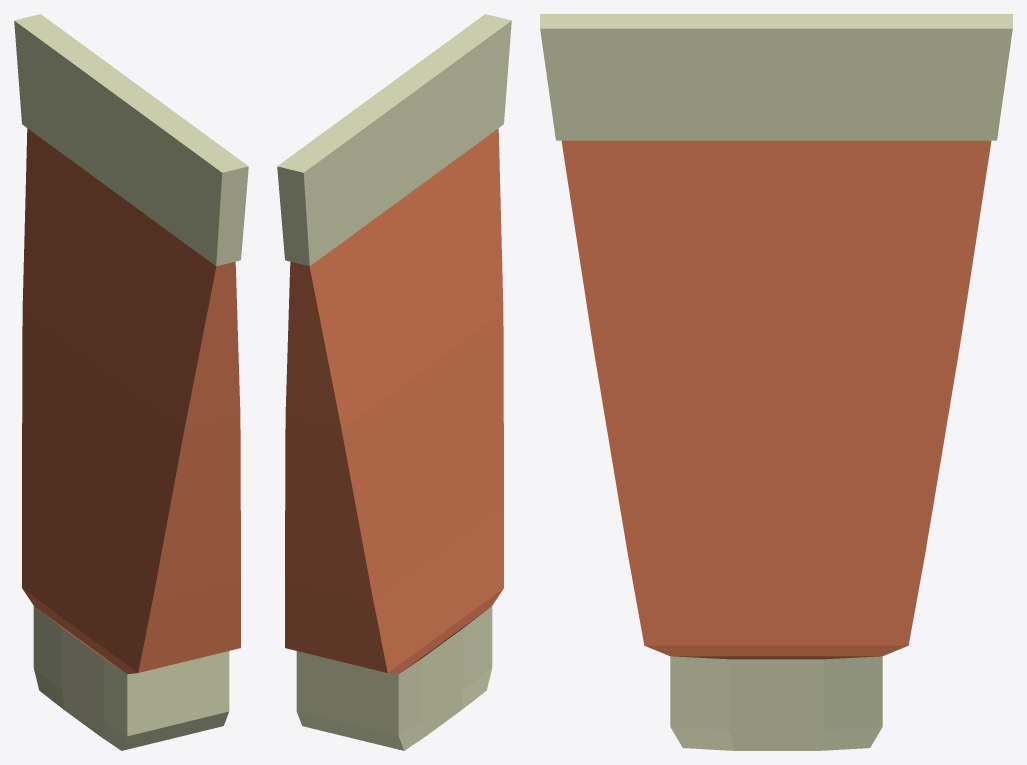
Rendered from sunscreen.fbx.
3 views of the same model, side by side, from view 1: azimuth 30°, elevation 25°; view 2: azimuth 150°, elevation 25°; view 3: azimuth 270°, elevation 25° (orthographic). The views are drawn at different scales.
Parts seen in each view (by area): view 1: Sunscreen; view 2: Sunscreen; view 3: Sunscreen.
Part boxes in pixels (<box>): Sunscreen: <box>14,14,248,750</box>; Sunscreen: <box>277,14,511,750</box>; Sunscreen: <box>540,14,1012,750</box>.
Bounding box in the file's own units: 5.7 × 32.75 × 19.96.
